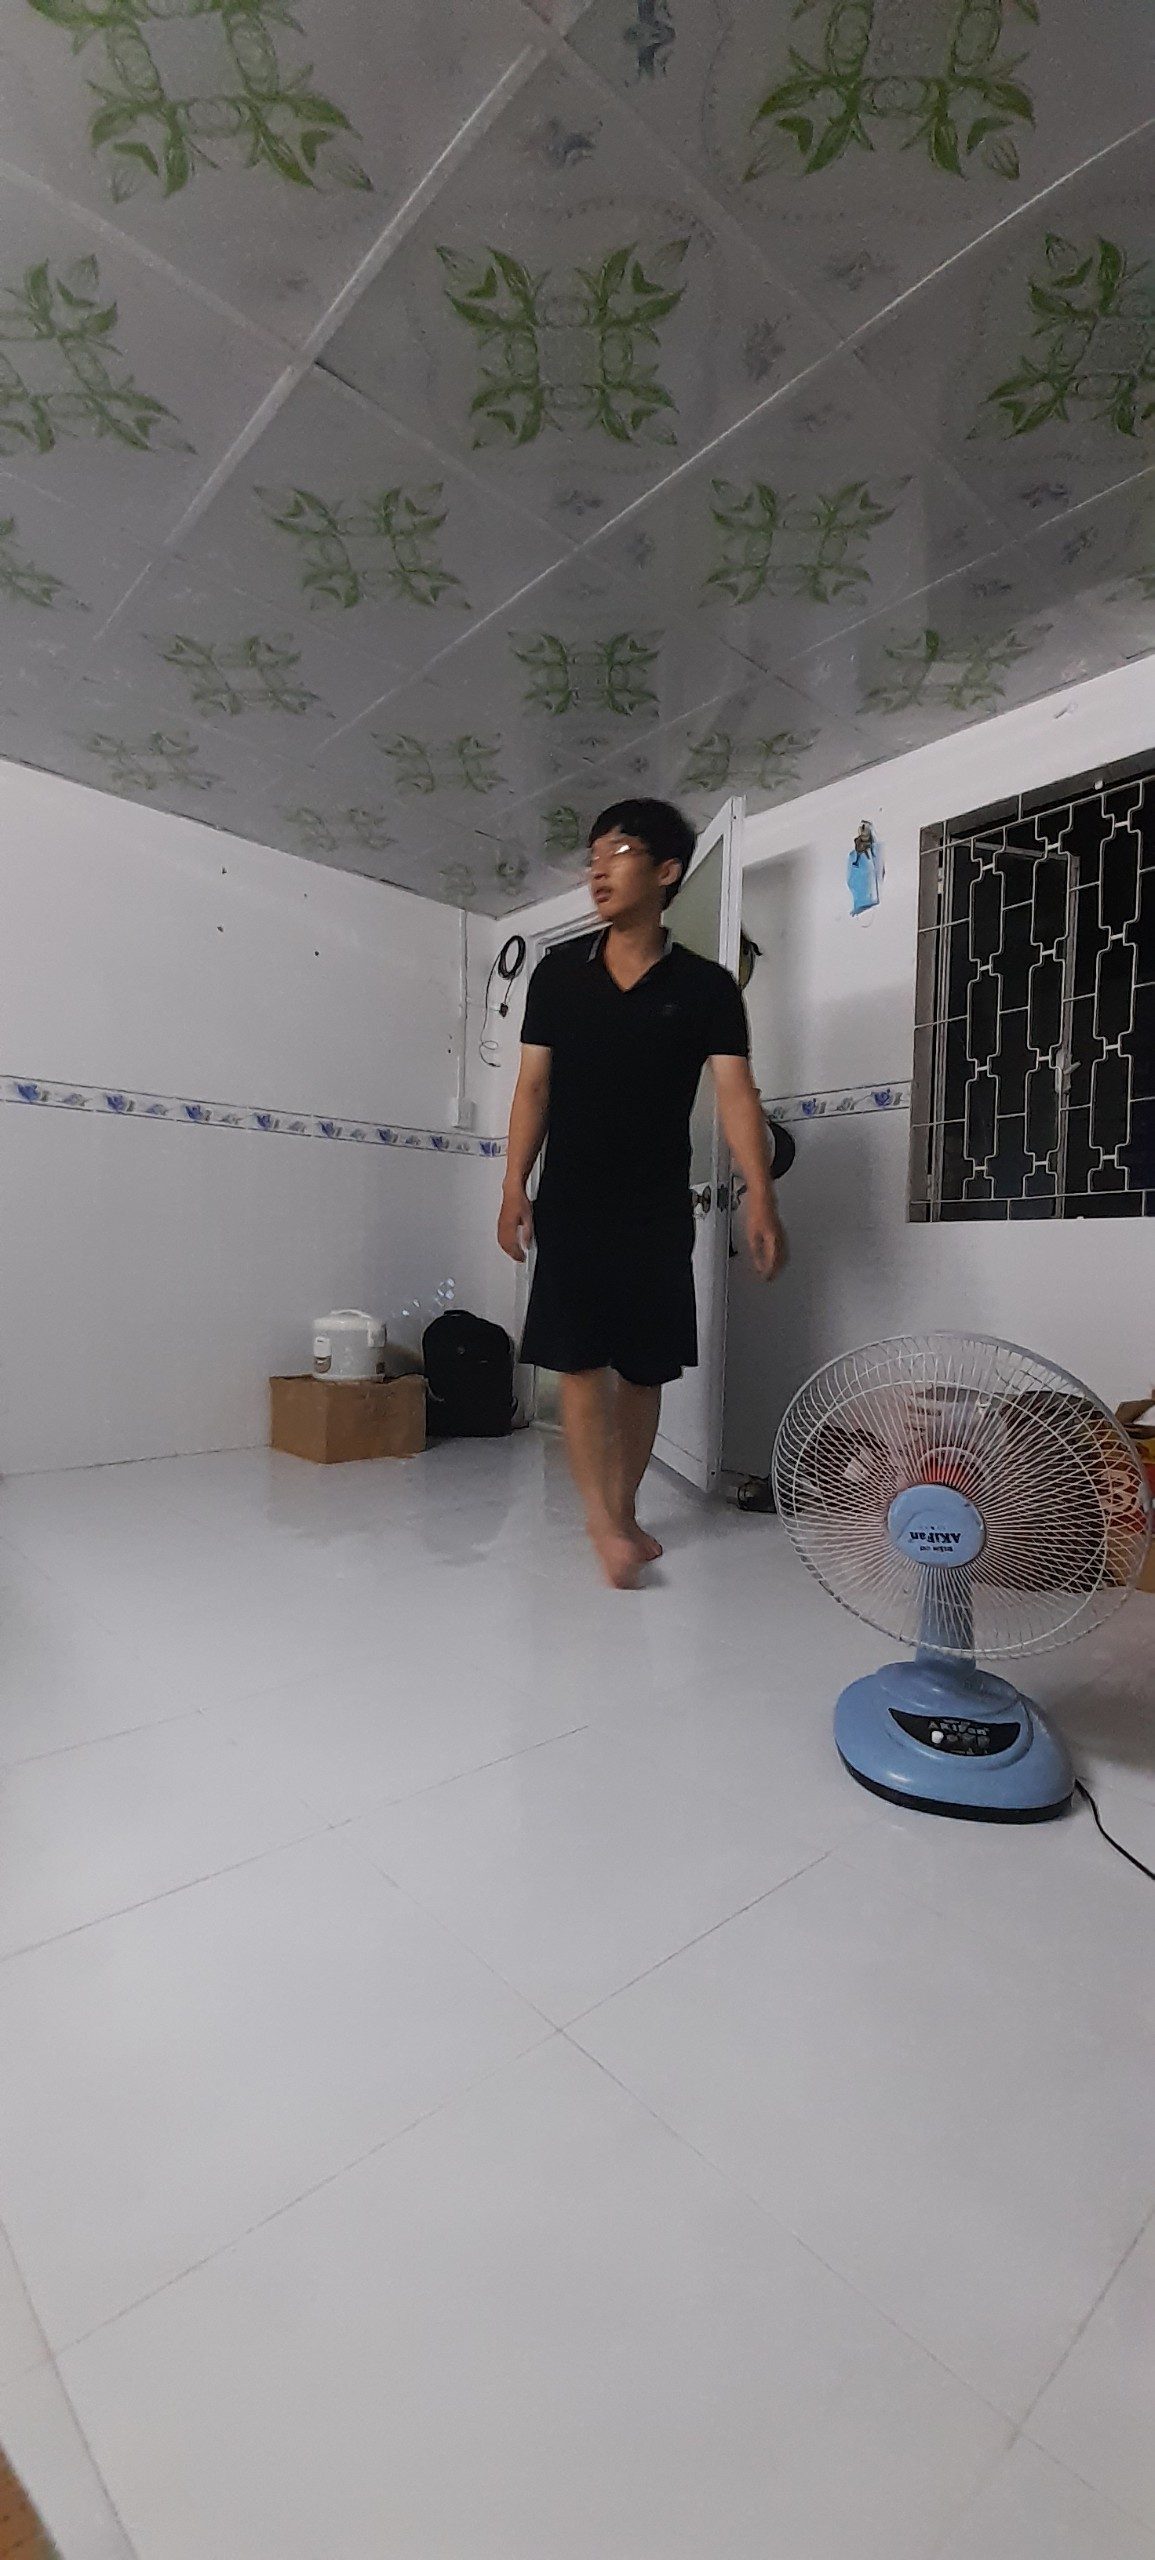person: (525, 798, 754, 1590)
